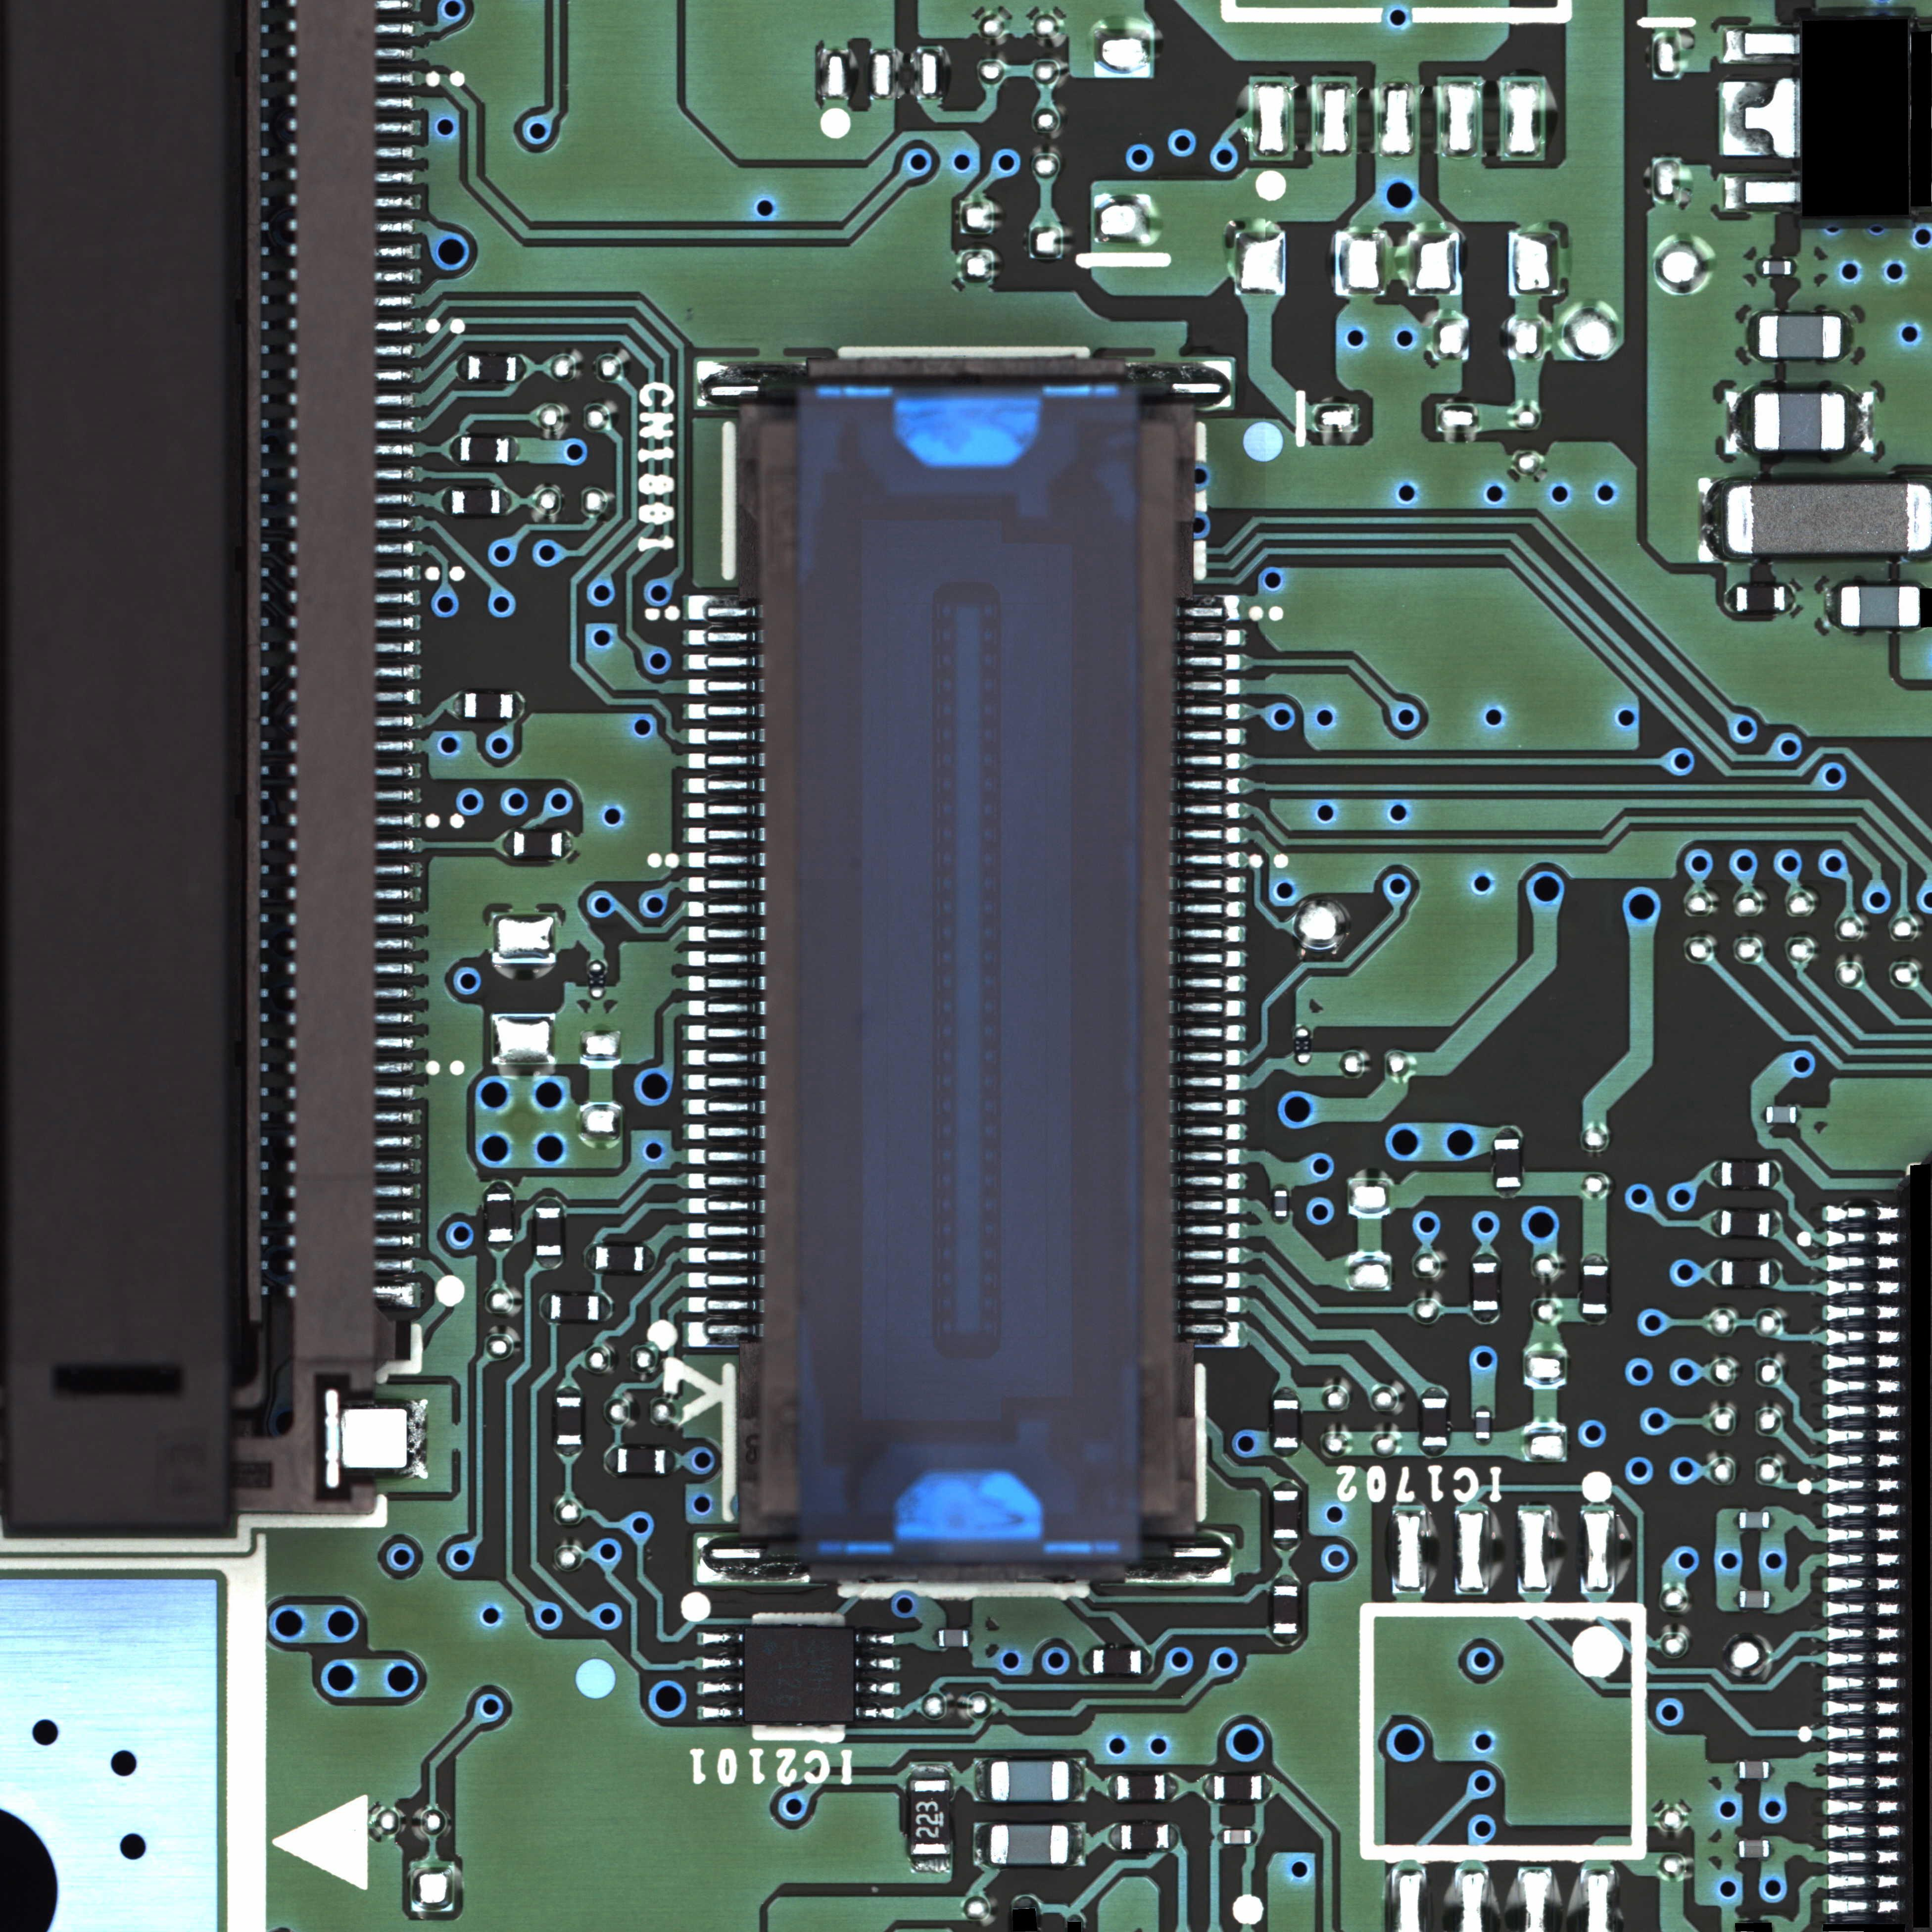Package: (1727, 481, 1930, 554), (745, 1629, 855, 1720), (1755, 393, 1844, 451), (1759, 315, 1840, 357), (989, 1824, 1069, 1865), (991, 1760, 1069, 1801), (1842, 586, 1920, 626), (909, 1780, 950, 1854), (1495, 1138, 1522, 1187), (460, 437, 508, 464), (487, 1194, 513, 1242), (536, 1207, 563, 1254), (556, 1398, 582, 1445), (1214, 1775, 1261, 1801), (1721, 1260, 1769, 1286), (619, 1447, 665, 1474), (1472, 1263, 1499, 1309), (469, 356, 517, 380), (453, 490, 501, 515), (465, 694, 513, 718), (515, 832, 563, 856), (1093, 1649, 1141, 1674), (1116, 1776, 1164, 1801), (1122, 1824, 1169, 1849), (1737, 586, 1785, 610), (1582, 1265, 1606, 1313), (1721, 1162, 1769, 1187), (1721, 1212, 1769, 1237), (596, 1247, 642, 1272), (552, 1295, 598, 1320), (1272, 1587, 1297, 1633), (1422, 1399, 1447, 1445), (1274, 1399, 1297, 1447), (1274, 1491, 1297, 1537), (1766, 1106, 1796, 1123), (1739, 1511, 1769, 1529), (1739, 1840, 1769, 1858), (939, 1629, 968, 1647), (1741, 1591, 1769, 1608), (1739, 1762, 1769, 1778), (1762, 260, 1790, 274), (1224, 1829, 1251, 1844), (1476, 1412, 1490, 1438), (1274, 1191, 1288, 1215)
Solder: (1720, 81, 1799, 157), (1723, 27, 1799, 64), (1178, 1536, 1231, 1583), (1725, 175, 1801, 207), (1697, 478, 1725, 563), (1845, 391, 1874, 453), (1725, 391, 1753, 453), (1828, 1352, 1900, 1369), (1828, 1476, 1900, 1493), (1828, 1451, 1900, 1468), (1828, 1376, 1900, 1394), (1828, 1327, 1900, 1345), (1828, 1279, 1900, 1297), (1828, 1500, 1898, 1518), (1828, 1302, 1898, 1320), (1828, 1254, 1898, 1272), (1828, 1230, 1898, 1247), (1828, 1898, 1900, 1914), (1828, 1874, 1900, 1890), (1828, 1849, 1900, 1865), (1828, 1799, 1900, 1815), (1828, 1552, 1900, 1568), (1828, 1576, 1900, 1592), (1828, 1601, 1900, 1617), (1828, 1626, 1900, 1642), (1828, 1651, 1900, 1667), (1828, 1675, 1900, 1691), (1828, 1401, 1900, 1417), (1828, 1824, 1898, 1840), (1828, 1725, 1898, 1741), (1828, 1750, 1898, 1766), (1828, 1775, 1898, 1790), (1828, 1527, 1898, 1543), (1829, 1700, 1900, 1716), (1829, 1426, 1900, 1442), (1828, 1207, 1898, 1223), (909, 1854, 950, 1874), (975, 1760, 991, 1801), (973, 1824, 989, 1865), (1069, 1824, 1085, 1865), (1069, 1760, 1085, 1801), (1824, 586, 1840, 626), (909, 1764, 950, 1778), (1842, 313, 1854, 357), (1746, 313, 1759, 357), (702, 1706, 745, 1718), (702, 1633, 745, 1644), (702, 1658, 745, 1668), (702, 1683, 745, 1693), (856, 1633, 895, 1644), (856, 1658, 895, 1668), (856, 1683, 895, 1693), (856, 1707, 895, 1718), (1472, 1309, 1499, 1323), (1010, 1895, 1040, 1907), (556, 1445, 584, 1458), (536, 1256, 563, 1269), (598, 1295, 610, 1322), (605, 1447, 617, 1474), (1709, 1260, 1721, 1286), (1272, 1387, 1299, 1399), (1166, 1776, 1178, 1801), (1141, 1649, 1154, 1674), (1582, 1253, 1606, 1265), (1274, 1539, 1299, 1552), (556, 1385, 584, 1396), (441, 490, 453, 513), (1274, 1633, 1297, 1645), (517, 356, 527, 382), (510, 437, 520, 464), (501, 488, 511, 515), (513, 692, 524, 718), (453, 692, 464, 718), (563, 832, 573, 858), (487, 1182, 513, 1192), (487, 1242, 513, 1253), (644, 1246, 655, 1272), (665, 1447, 676, 1474), (1203, 1775, 1214, 1801), (1769, 1161, 1780, 1187), (1711, 1161, 1721, 1187), (1495, 1127, 1522, 1138), (1495, 1187, 1522, 1198), (1421, 1445, 1447, 1456), (1272, 1447, 1299, 1458), (1272, 1479, 1299, 1490), (456, 356, 467, 380), (449, 437, 460, 462), (502, 832, 513, 856), (586, 1246, 596, 1270), (1109, 1824, 1120, 1849), (1261, 1775, 1272, 1799), (1083, 1649, 1093, 1674), (1785, 586, 1796, 610), (1725, 586, 1736, 610), (1771, 1212, 1782, 1237), (1711, 1212, 1721, 1237), (1771, 1261, 1782, 1286), (1422, 1387, 1447, 1398), (541, 1295, 552, 1318), (1274, 1575, 1297, 1585), (1169, 1824, 1178, 1851), (1472, 1253, 1499, 1261), (536, 1198, 561, 1207), (1582, 1315, 1606, 1323), (1108, 1776, 1116, 1799), (932, 1629, 939, 1647), (1755, 258, 1762, 276), (1732, 1591, 1739, 1608), (1769, 1760, 1776, 1778), (1796, 1106, 1803, 1123), (1274, 1215, 1288, 1224), (1251, 1829, 1258, 1845), (1790, 260, 1798, 276), (1732, 1513, 1739, 1529), (1732, 1842, 1739, 1858), (1067, 1914, 1083, 1921), (1274, 1184, 1288, 1191), (1476, 1405, 1490, 1412), (1476, 1438, 1490, 1445), (970, 1629, 975, 1647), (1760, 1106, 1766, 1123), (1769, 1513, 1775, 1529), (1769, 1592, 1775, 1608), (1734, 1762, 1739, 1778), (1769, 1842, 1775, 1858), (1217, 1829, 1223, 1844)
